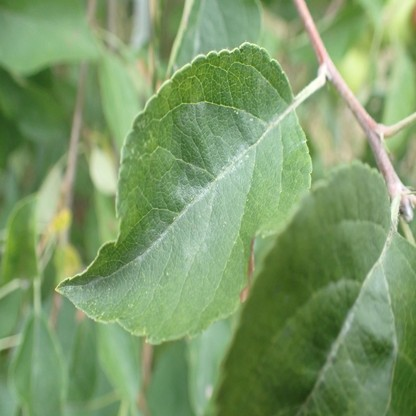powder: (135, 78, 272, 268), (59, 276, 103, 300)
